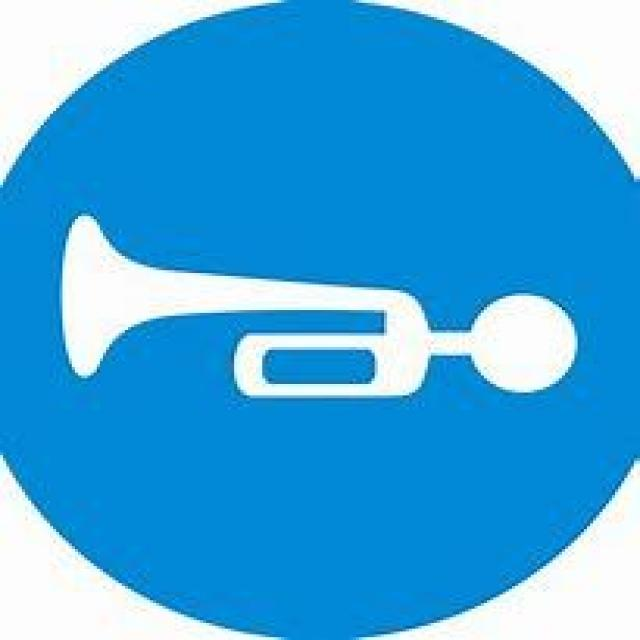COMPULSARY_SOUND_HORN: (0, 0, 637, 637)
